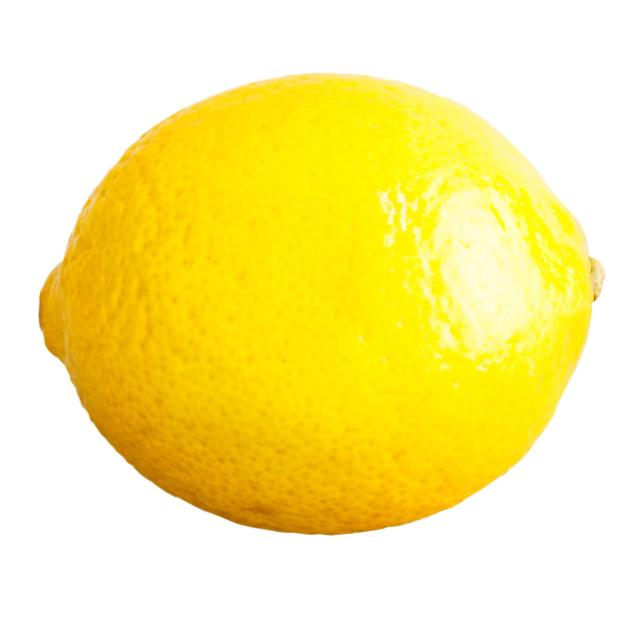lemon: (30, 63, 616, 546)
